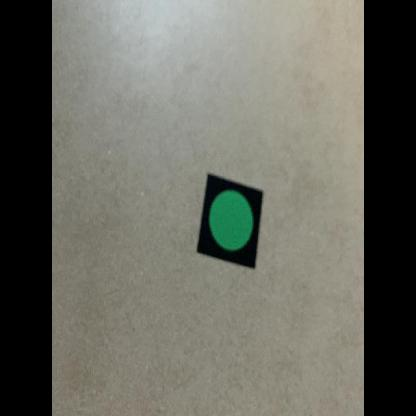go: (196, 171, 265, 272)
